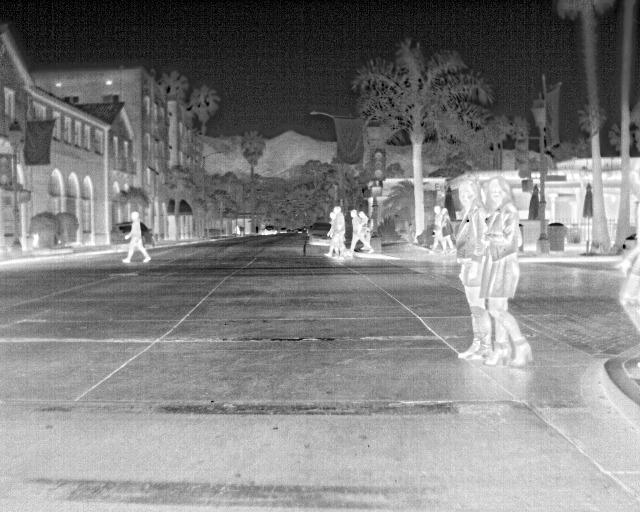bicycle: (306, 220, 333, 247), (108, 221, 132, 247)
empty: (483, 175, 532, 367), (454, 177, 482, 360), (617, 237, 639, 333), (121, 211, 153, 265), (330, 203, 351, 261), (349, 210, 375, 255), (441, 206, 455, 254), (429, 204, 441, 253)
